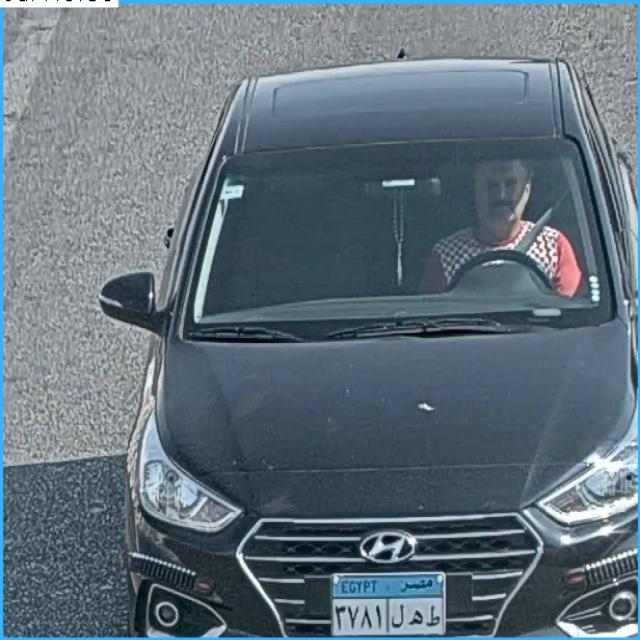windshield: (183, 157, 618, 320)
